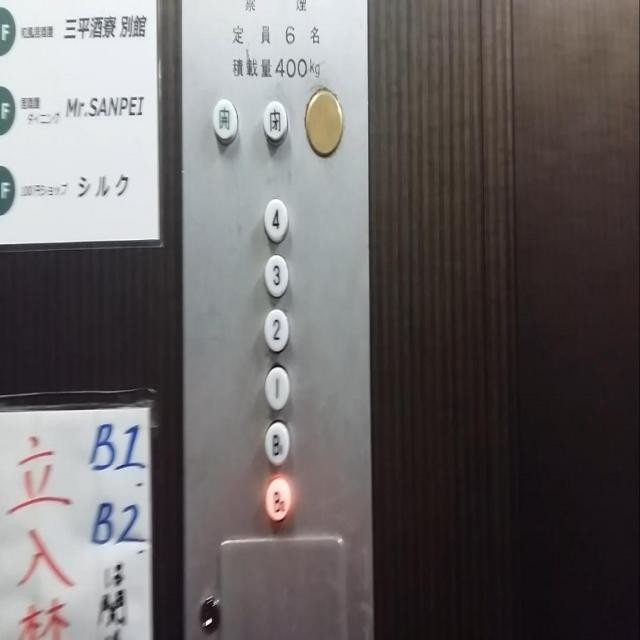1: (261, 362, 291, 412)
2: (261, 304, 290, 354)
3: (261, 250, 290, 299)
4: (261, 196, 290, 245)
B1: (261, 418, 291, 468)
B2: (264, 474, 293, 524)
empty: (301, 83, 346, 160)
text: (210, 96, 240, 146), (260, 98, 290, 146)
